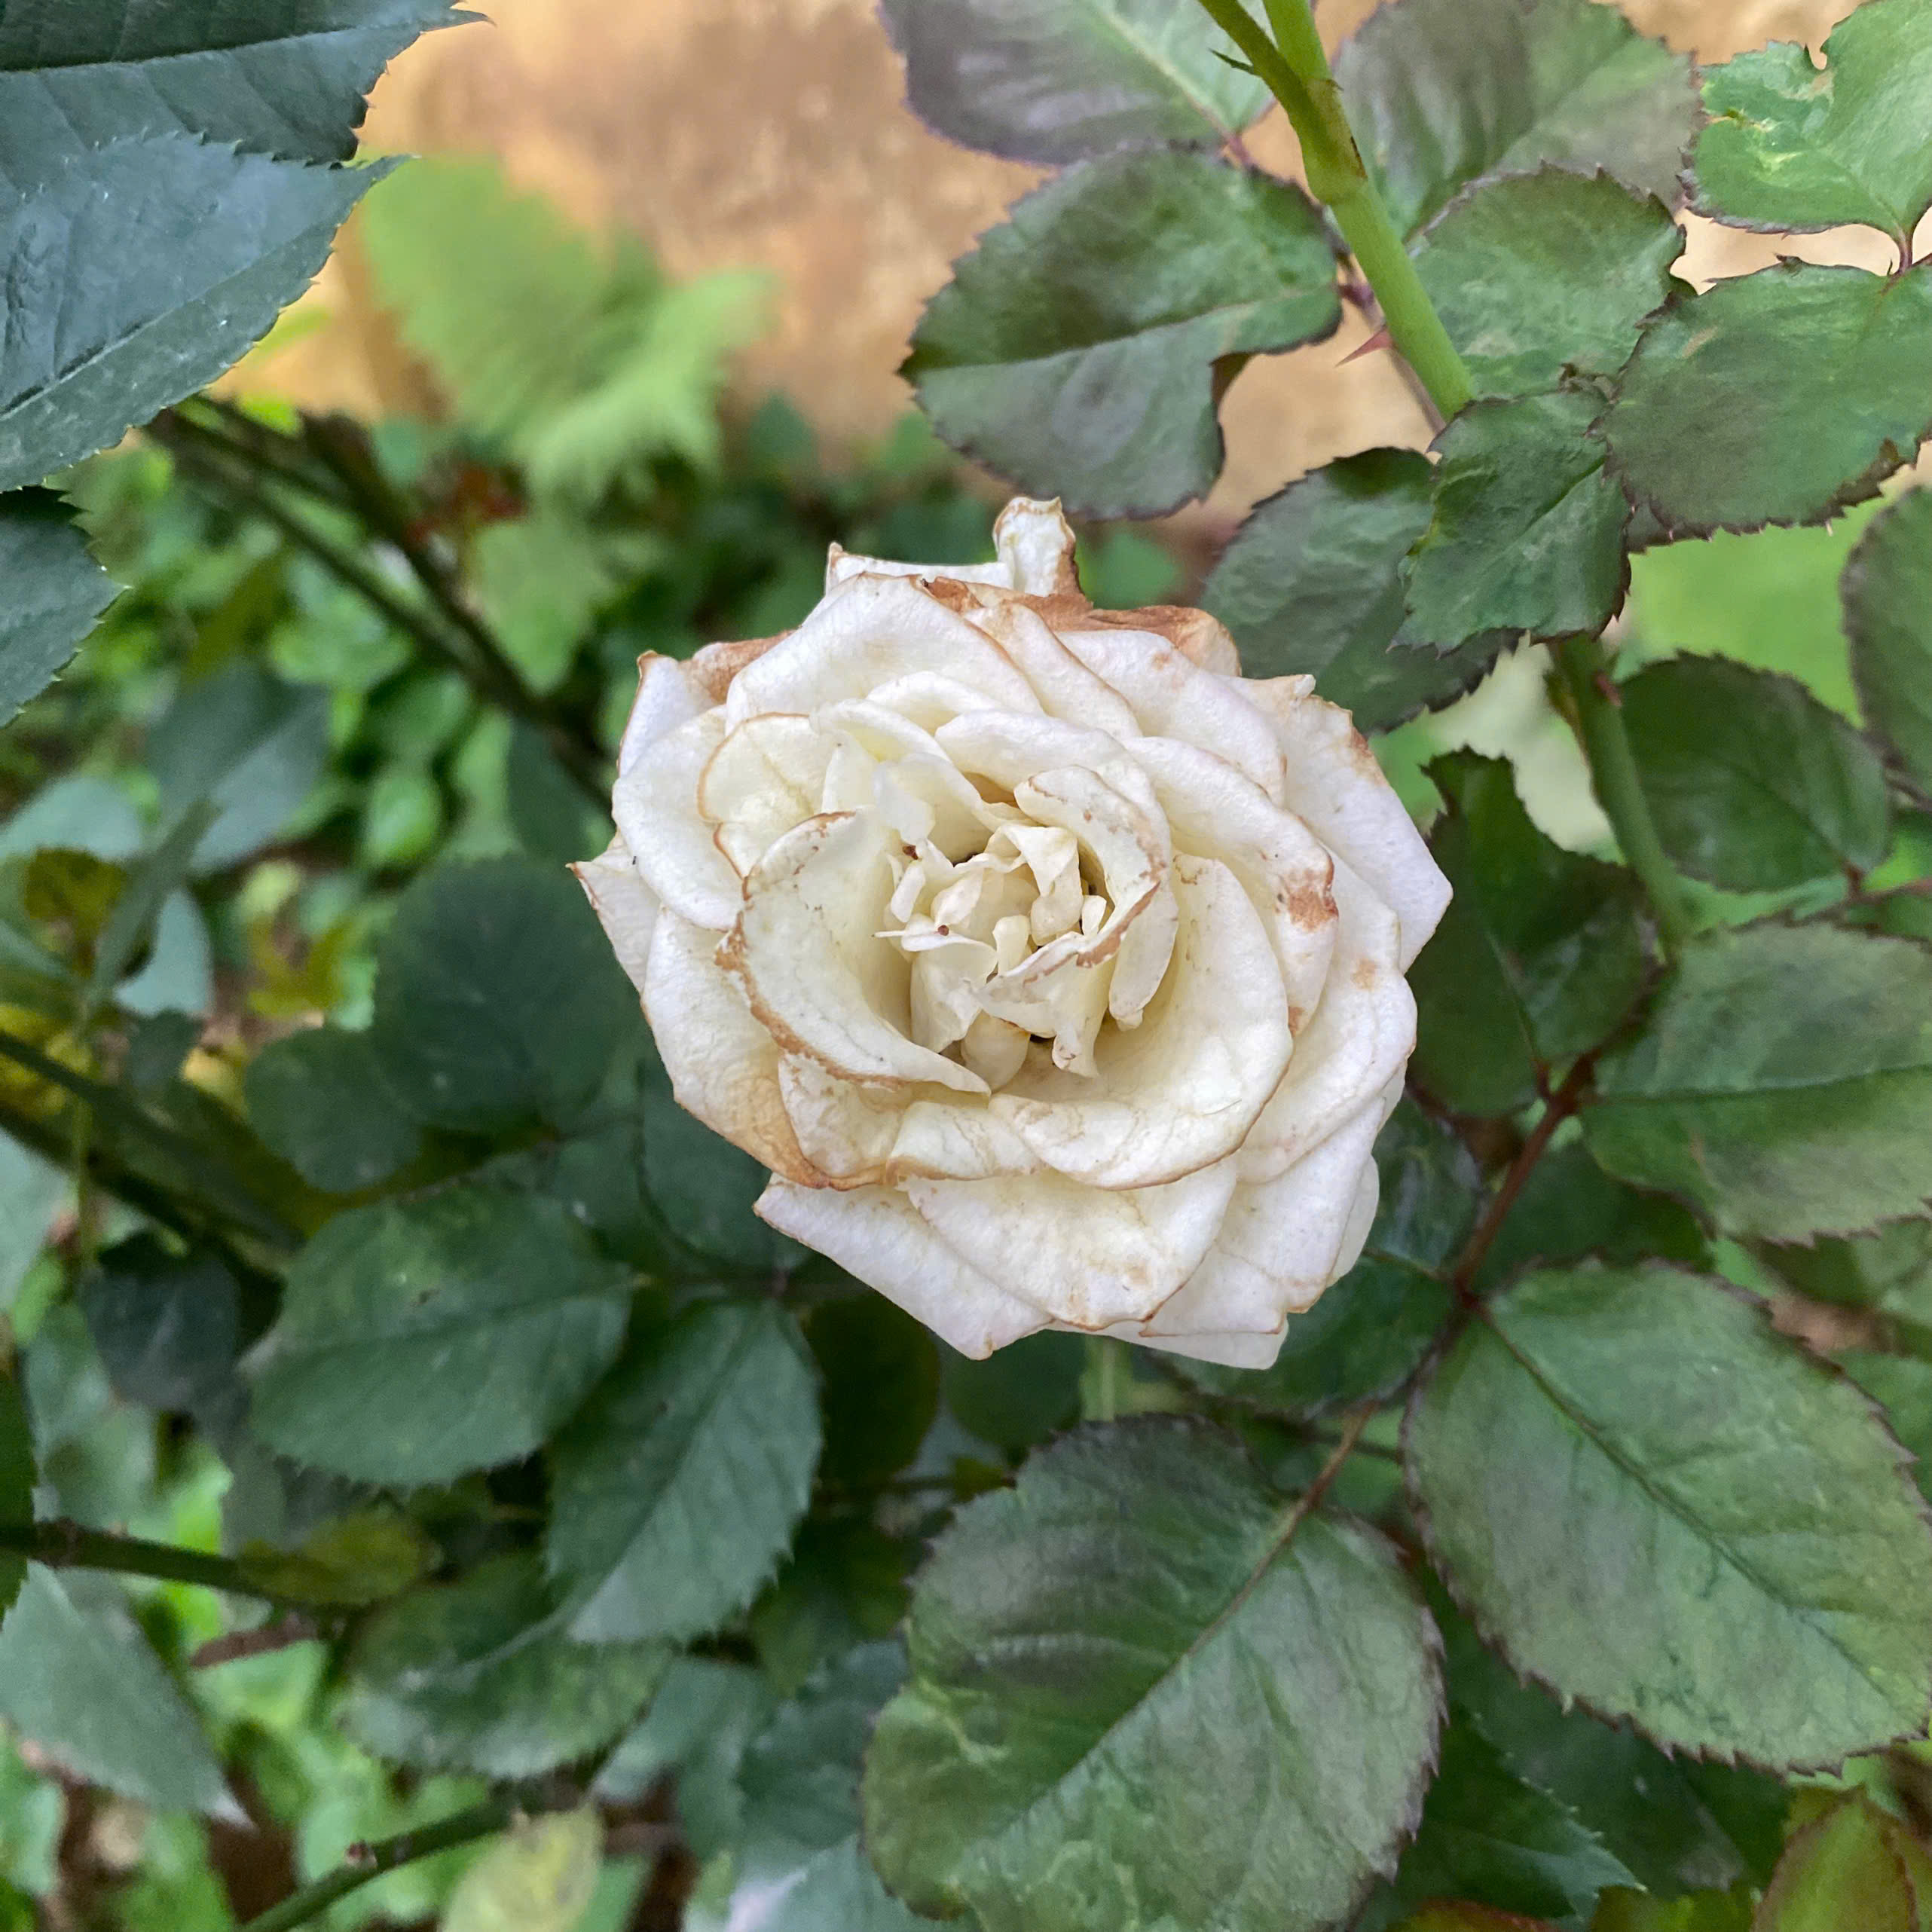hoa_thuoc_duoc: (349, 430, 1744, 1514)
